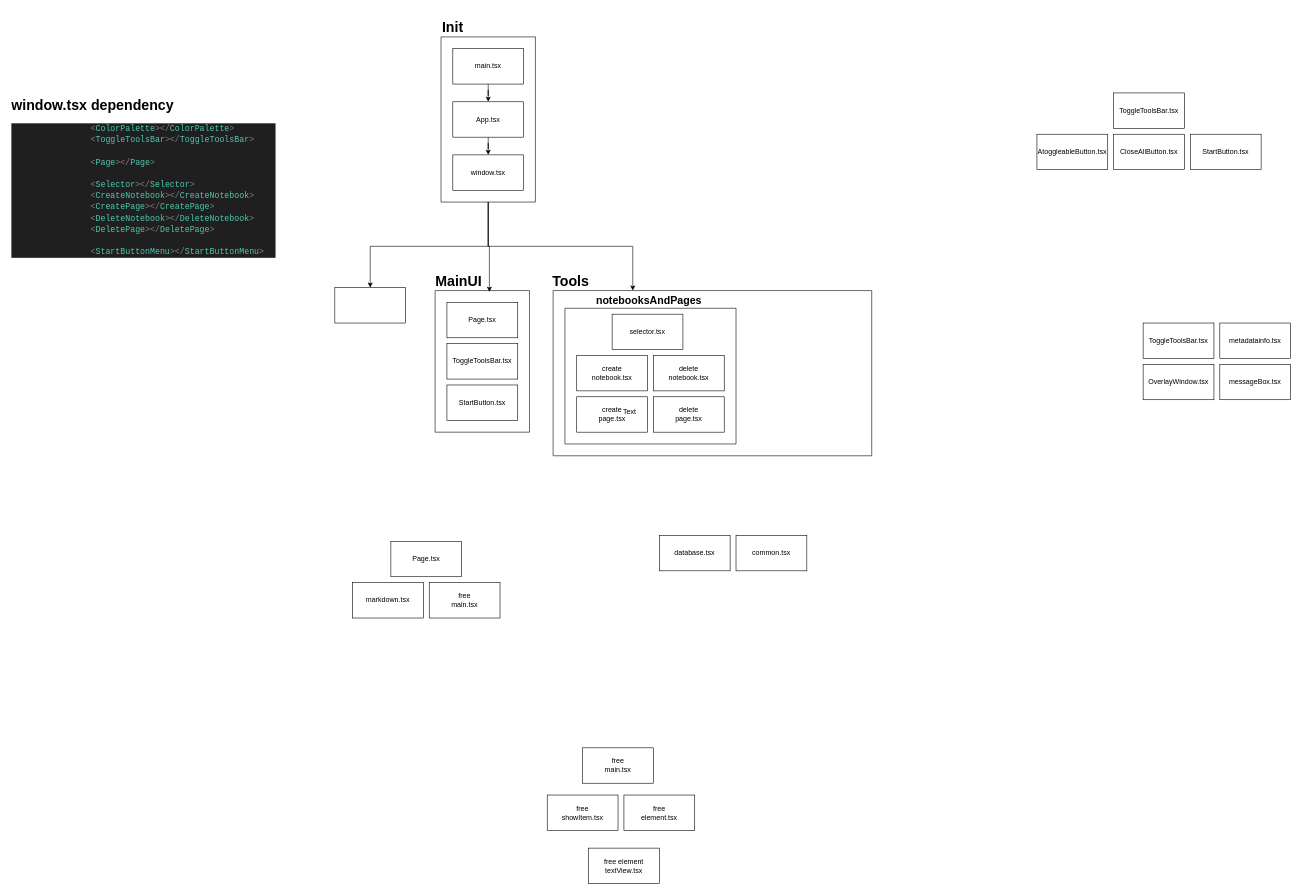
Some shapes in this 1301 by 894 pixel diagram are drawn without their labels. The shapes that lost their labels are listed below. From the top down, each one's centre as x and y in pixels, then its label:
At point 370,305: "ColorPalette.tsx".
At point 712,373: "files tags localserver remoteserver".
